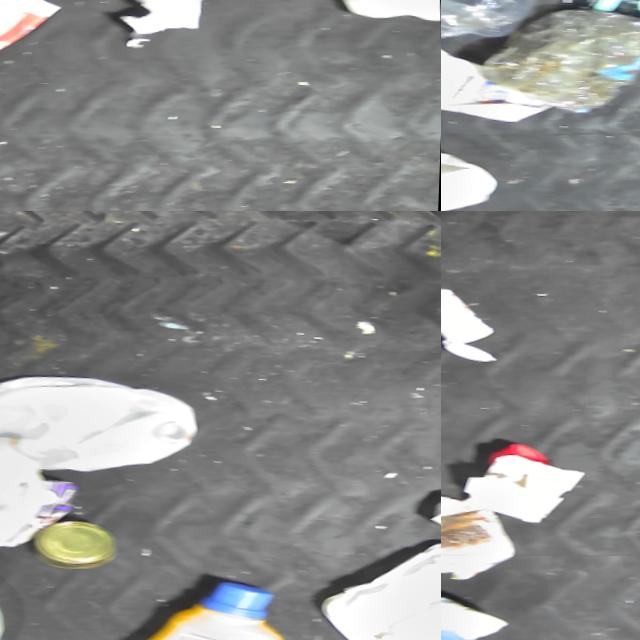can: (30, 511, 127, 573)
milk_jug: (0, 356, 207, 484), (0, 427, 66, 568)
non_white_jug: (111, 563, 301, 640)
